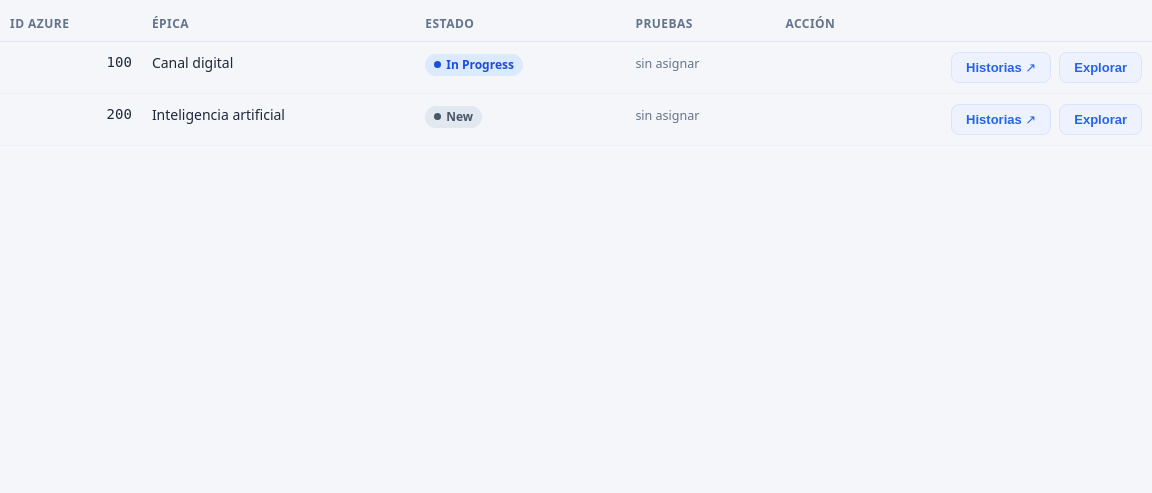
Test: TablaEpicas › contrae una épica expandida
What coordinates should you click on to do the following:
click the button with aria-label "expandir épica canal digital"
I would click on:
 (1101, 68)
Its box is [1059, 52, 1142, 83].
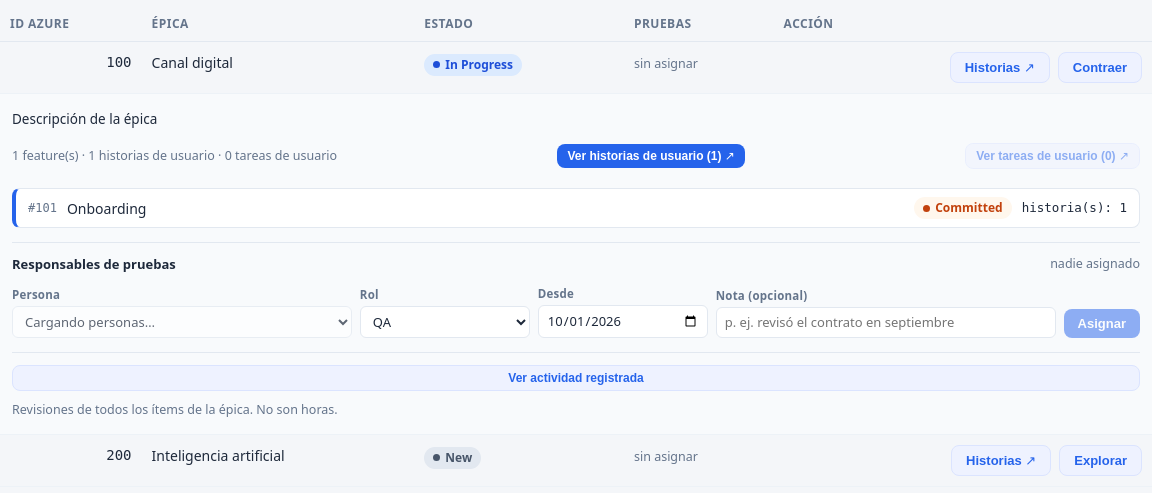
Check: the text "Onboarding" is shown, box [67, 198, 146, 218]
What coordinates should you click on to do the following:
click the button with aria-label "contraer épica canal digital"
I would click on:
 (1100, 68)
Its box is [1058, 52, 1142, 83].
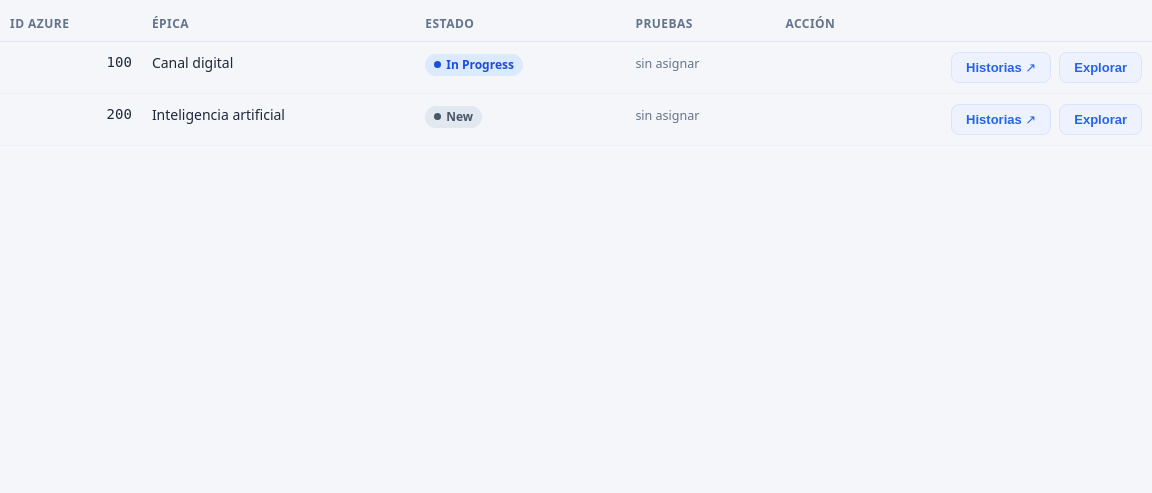
Check: the text "Onboarding" is gone
